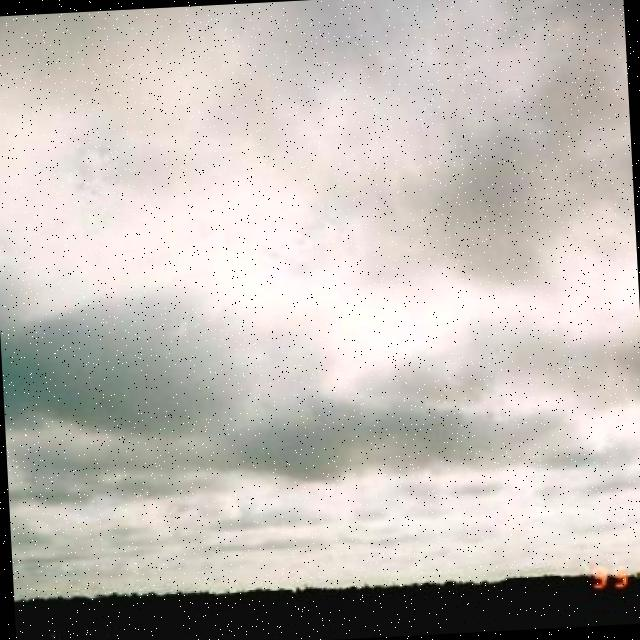St: (1, 26, 640, 534)
